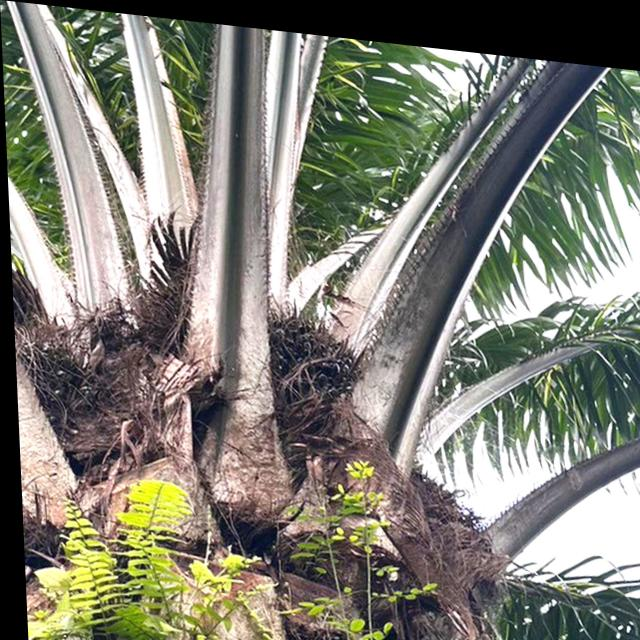unripe: (242, 287, 378, 460), (10, 299, 123, 458)
